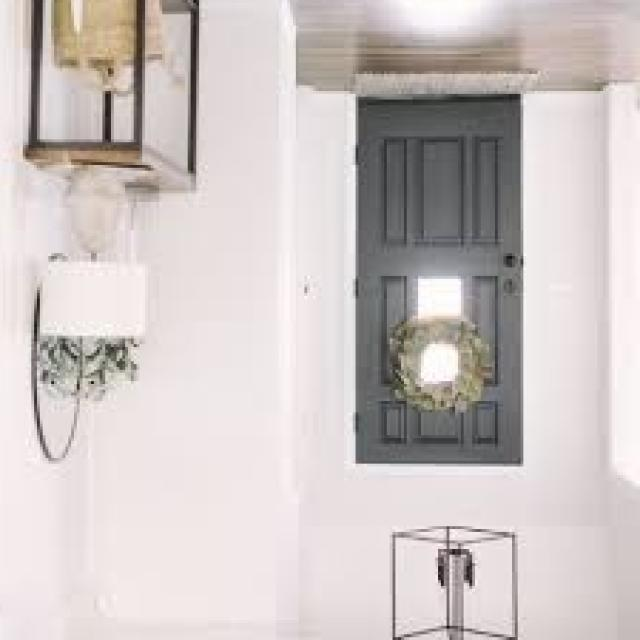door: (354, 96, 525, 466)
